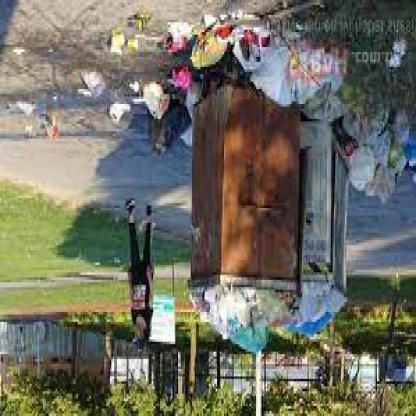Garbage: (191, 282, 298, 349), (256, 42, 338, 109), (290, 284, 343, 342), (110, 2, 156, 52), (192, 2, 227, 66), (345, 100, 395, 144), (232, 7, 262, 77), (156, 17, 191, 67), (344, 144, 378, 194), (144, 84, 168, 138), (150, 124, 184, 161), (262, 287, 292, 327), (224, 288, 259, 322), (300, 288, 330, 322), (367, 174, 395, 206), (71, 74, 96, 107), (106, 99, 128, 126), (42, 116, 58, 146), (204, 287, 220, 312), (174, 66, 192, 84), (134, 77, 140, 99)
